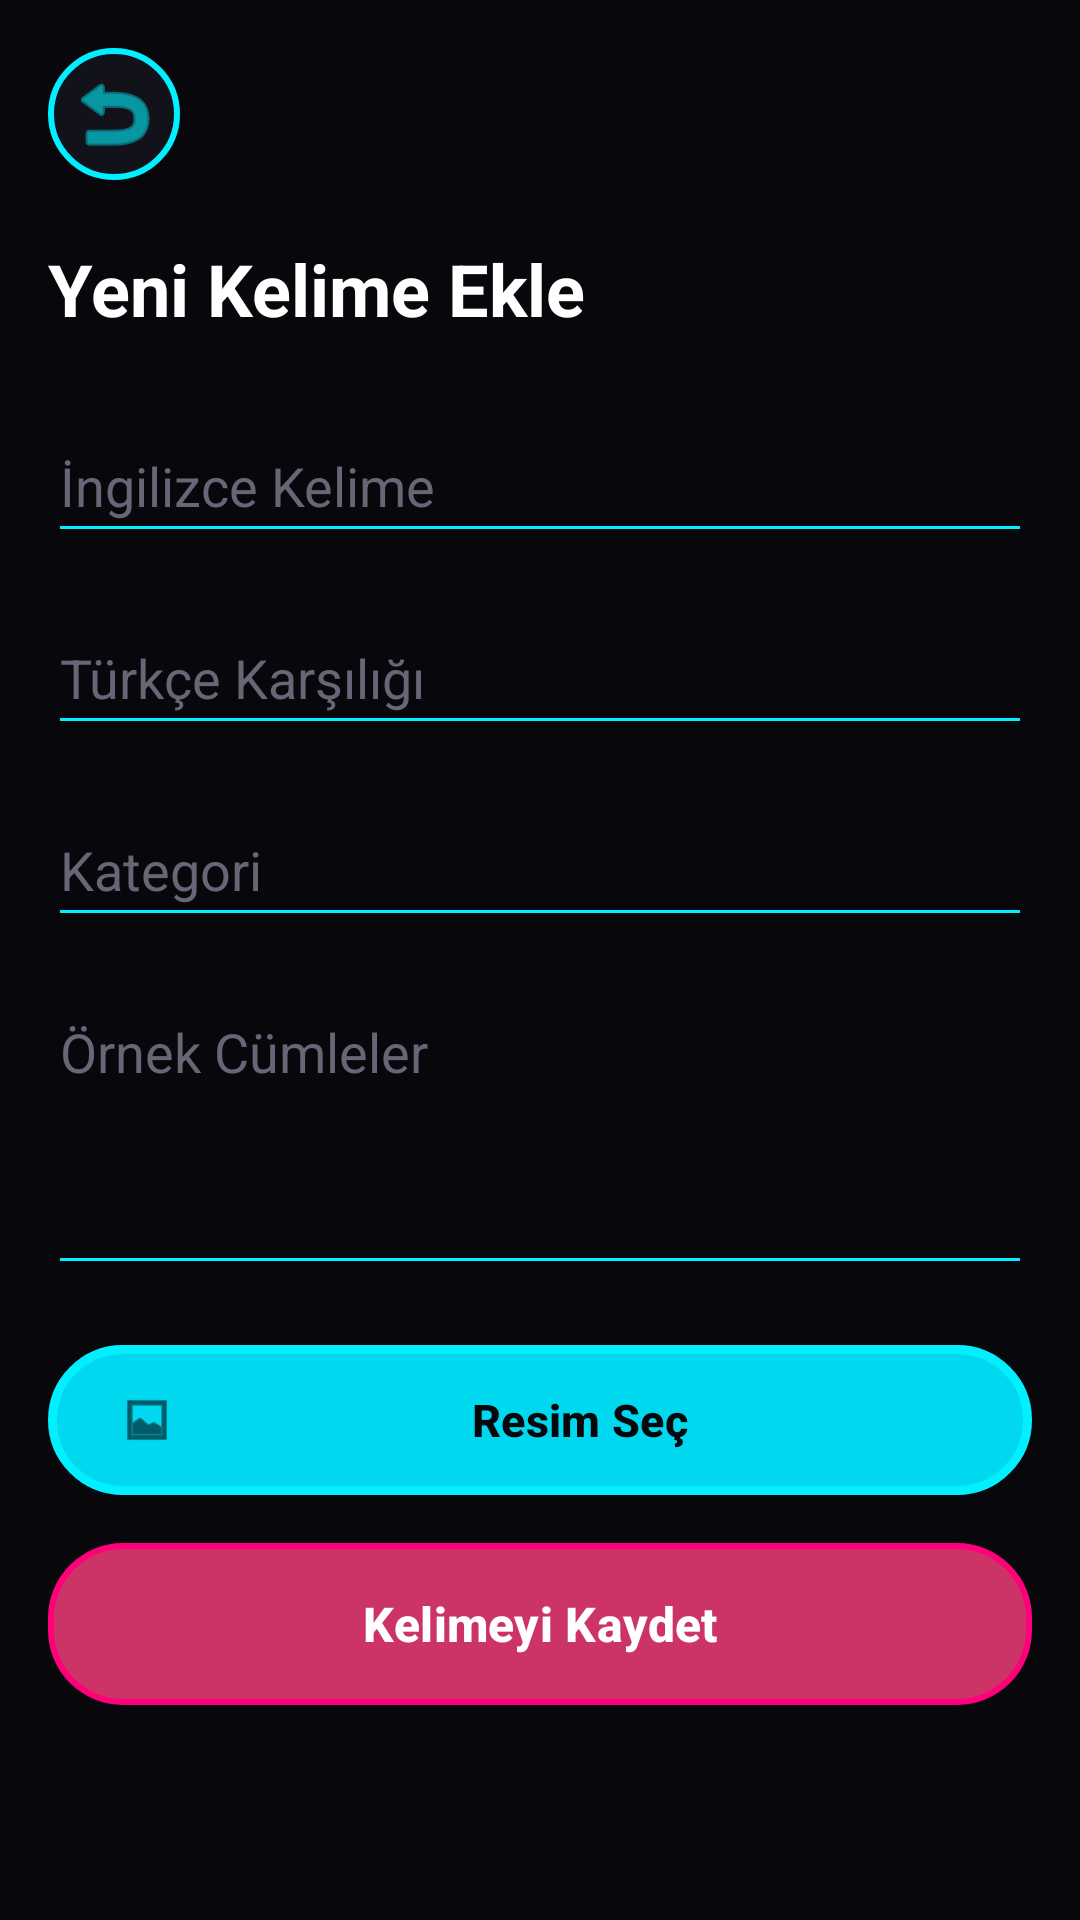

Where icons sit on this 1080px x 1920px app screen, as (x1=x1, y1=y1, x2=x2, y2=y2):
Geri Dön: (x1=48, y1=48, x2=180, y2=180)
